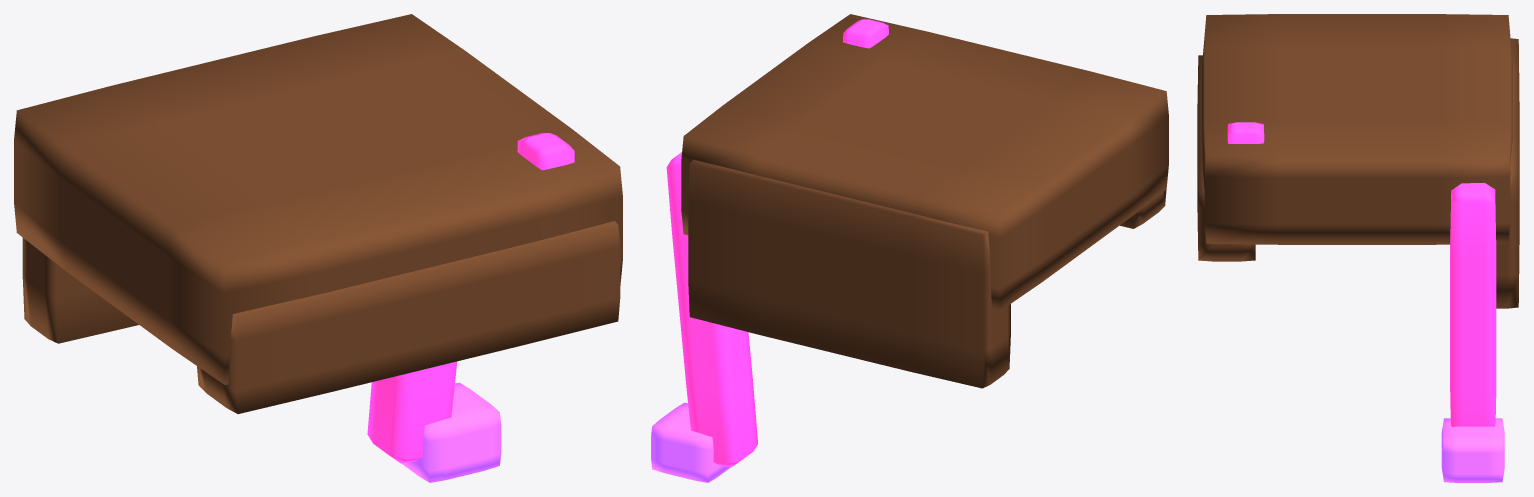
Rendered from hair-neon-braid.glb.
3 views of the same model, side by side, from view 1: azimuth 30°, elevation 25°; view 2: azimuth 150°, elevation 25°; view 3: azimuth 270°, elevation 25° (orthographic). The views are drawn at different scales.
Visible parts, largest first — view 1: HairTop, HairFront, HairBack, Braid, Tip, Accent; view 2: HairTop, HairBack, Braid, Tip, Accent, HairFront; view 3: HairTop, Braid, Tip, HairBack, HairFront, Accent.
Part boxes in pixels (box(x1,y1,x2,y2)): HairTop: box(14, 14, 622, 385); HairFront: box(197, 221, 620, 413); HairBack: box(22, 238, 138, 343); Braid: box(367, 361, 457, 463); Tip: box(401, 382, 501, 482); Accent: box(517, 133, 574, 170); HairTop: box(681, 14, 1168, 311); HairBack: box(688, 159, 1010, 388); Braid: box(666, 152, 757, 467); Tip: box(651, 402, 730, 482); Accent: box(843, 19, 888, 48); HairFront: box(1120, 189, 1166, 228); HairTop: box(1201, 14, 1512, 244); Braid: box(1450, 182, 1496, 426); Tip: box(1441, 418, 1504, 482); HairBack: box(1496, 38, 1519, 308); HairFront: box(1197, 55, 1255, 261); Accent: box(1227, 122, 1264, 143).
Bounding box in the file's own units: 1.78 × 1.71 × 1.53.
